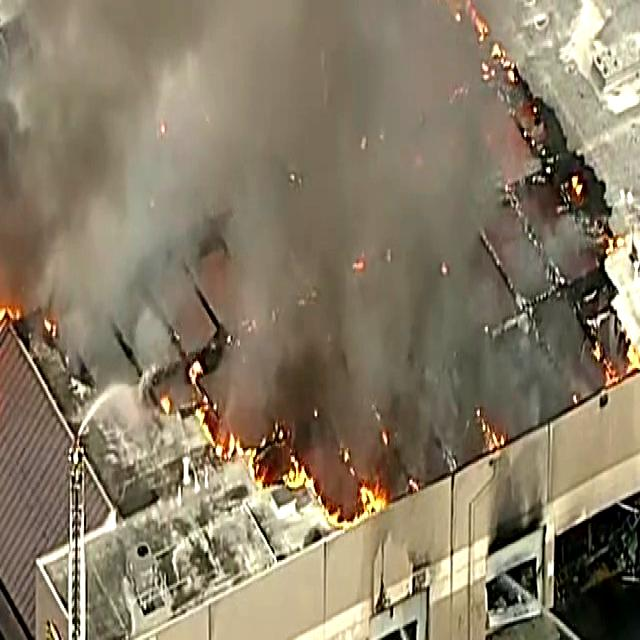smoke: (147, 0, 403, 391)
